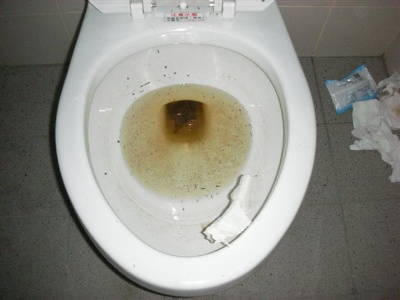toilet: (54, 1, 318, 296)
